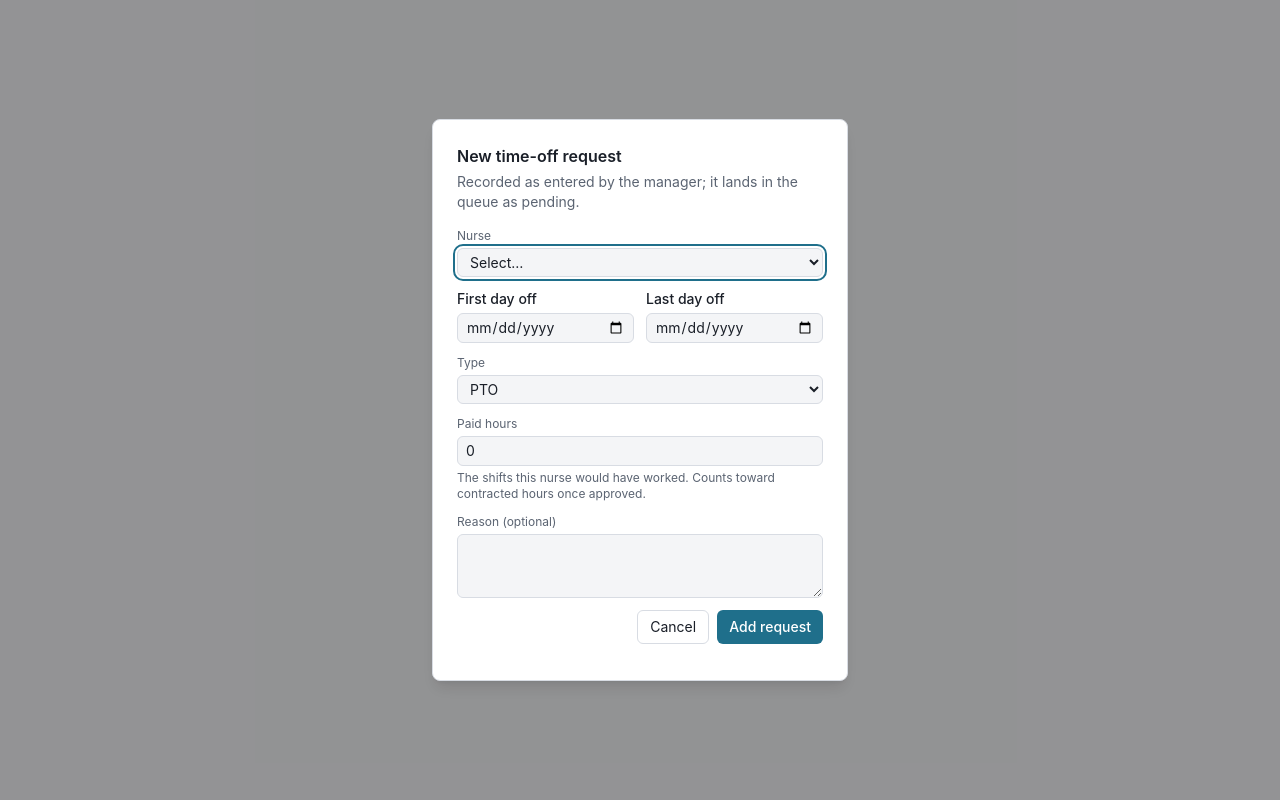
Test: writing a request against the balance on file › says when a nurse has no balance on file to check against
Select "Martinez, Ana (RN)" in the dropdown labelled "Nurse" at [640, 262], box [457,248,823,277]
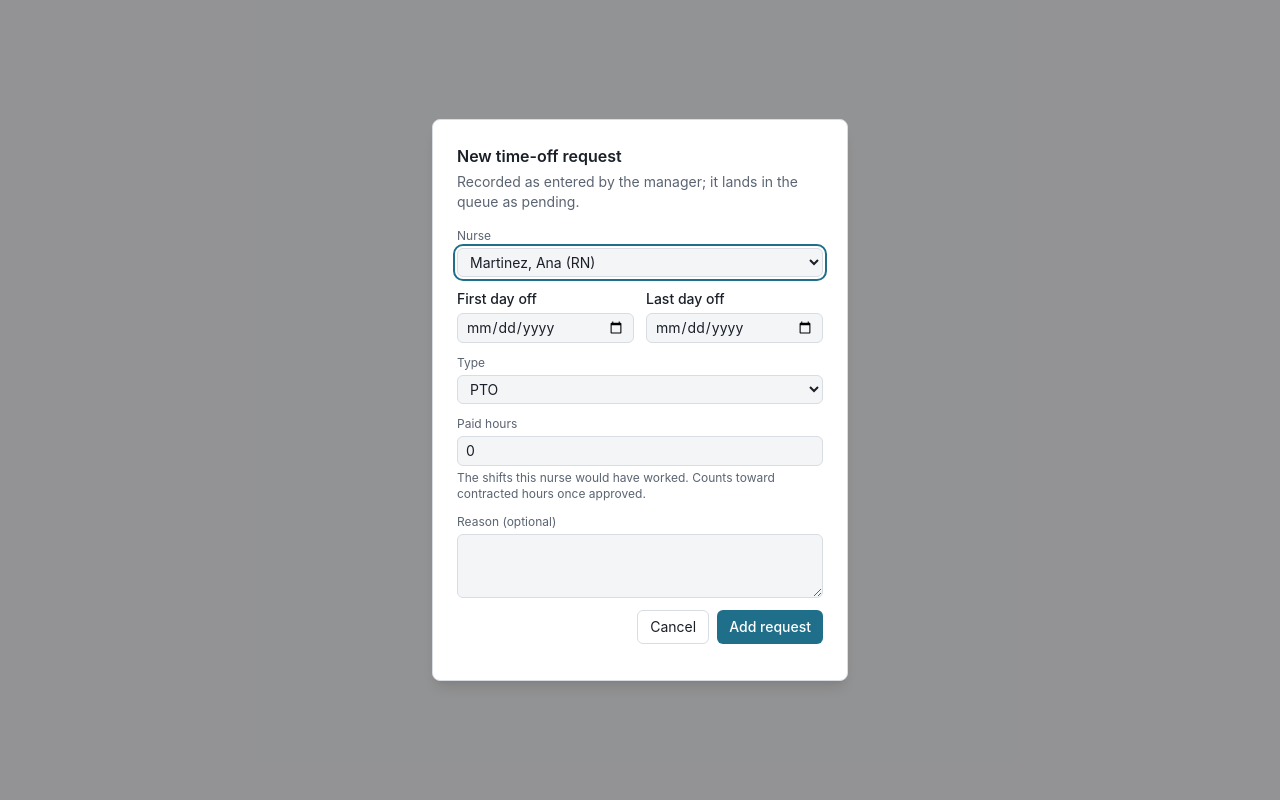
Type "2026-10-05" into the date field labelled "First day off" at [546, 328], box [457,313,634,343]
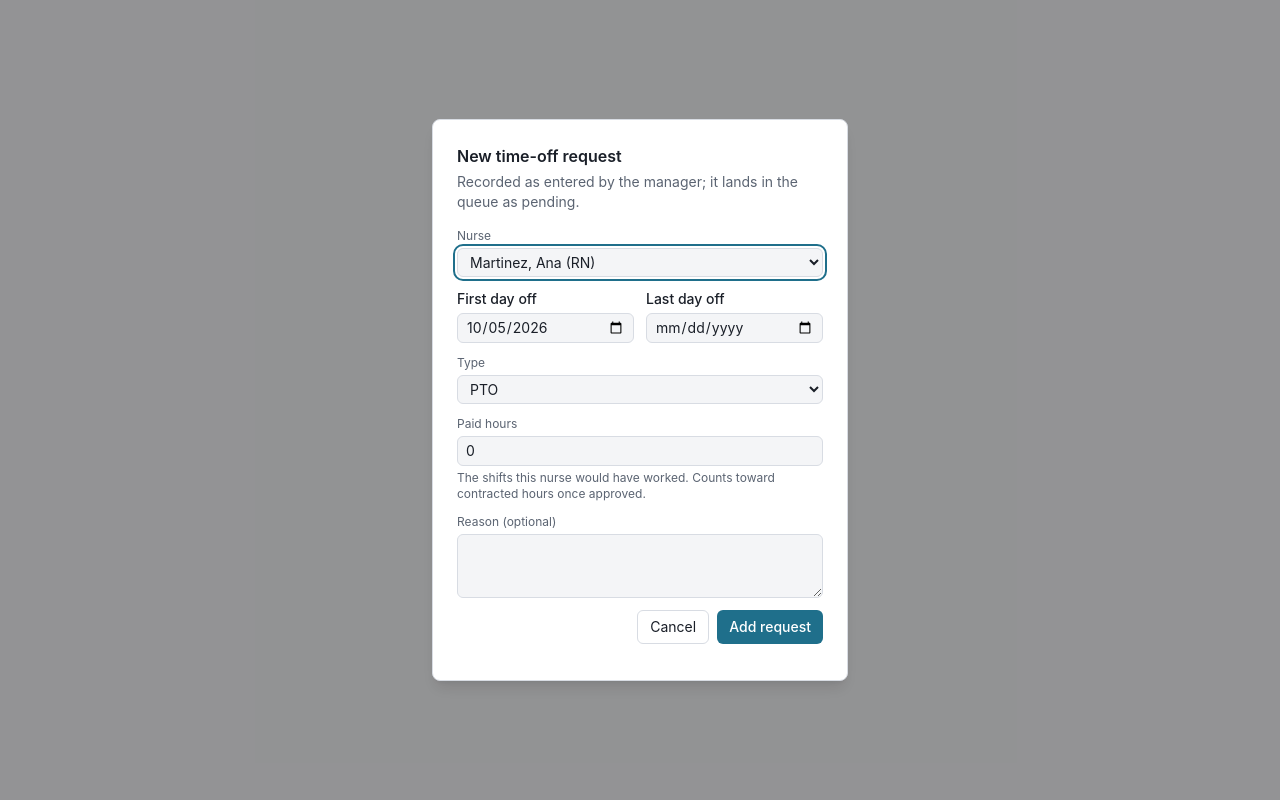
Type "2026-10-11" into the date field labelled "Last day off" at [734, 328], box [646,313,823,343]
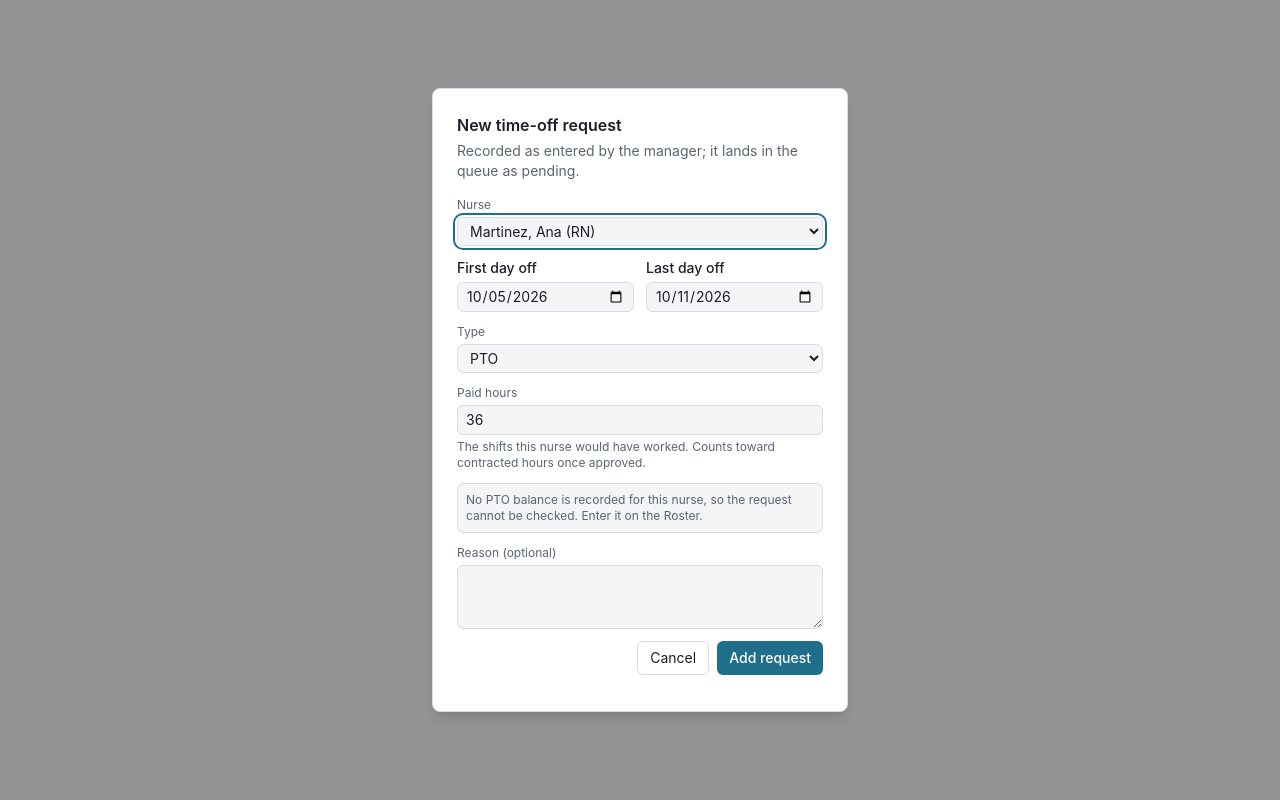
Expected: the text "No PTO balance is recorded for this nurse" is shown, [466,492,814,524]
